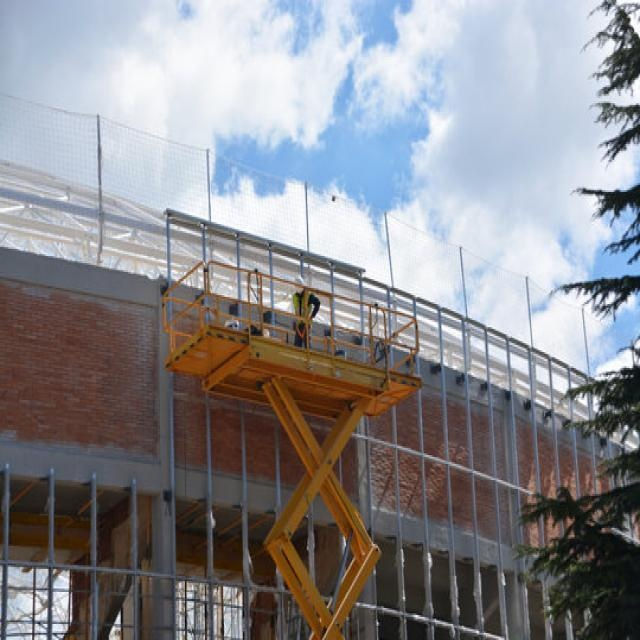Arnes_seguridad: (295, 305, 315, 340)
